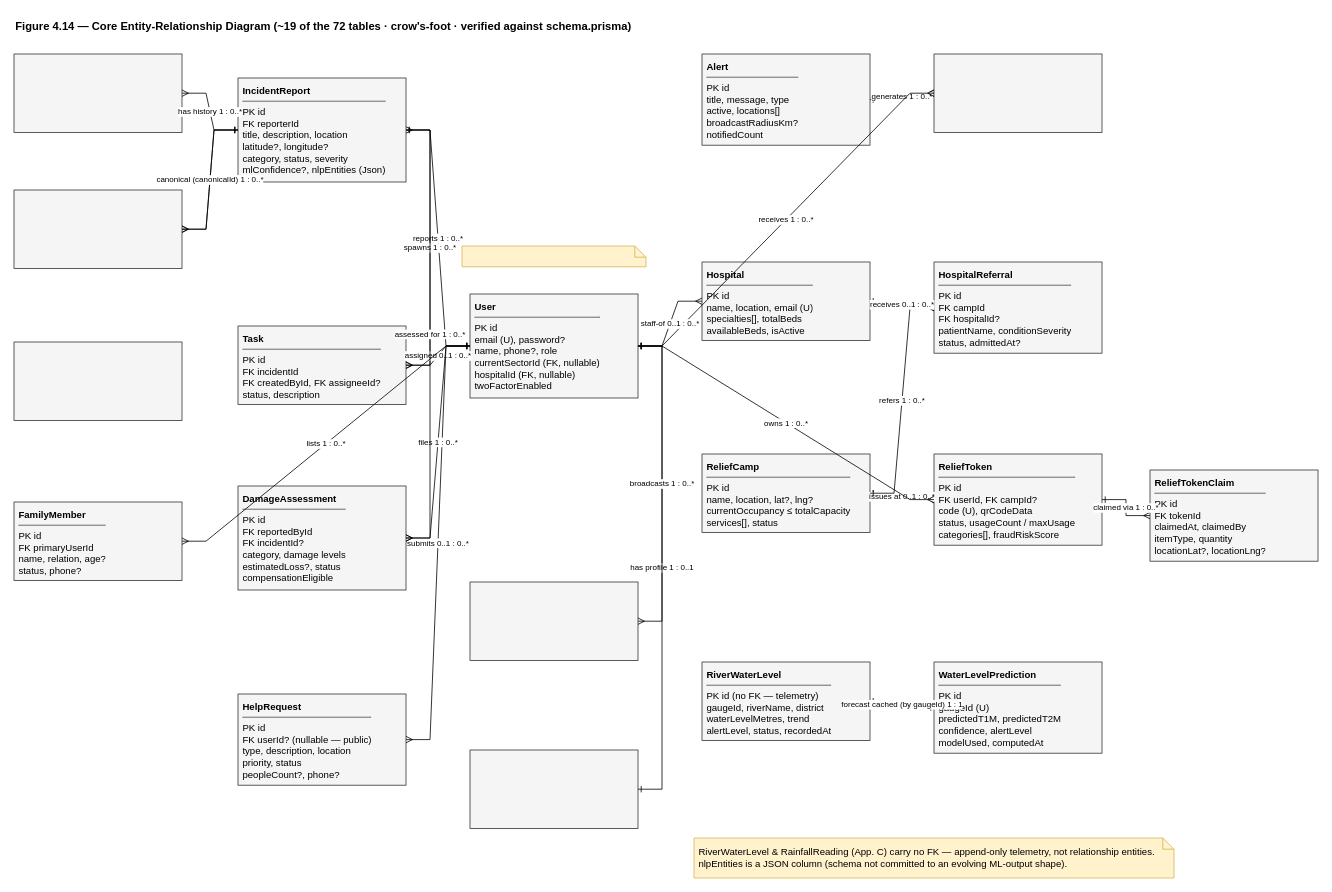
Image size: 1332x892. Some labels were removed from this diagram. Each missing label, with the centre of its shape:
IncidentDuplicateLink PK id FK reportId FK canonicalId score, distanceM, status: the point at 97,228
IncidentHistory PK id FK incidentId fromStatus, toStatus changedById, note: the point at 97,92
MissingPerson PK id name, age?, description lastSeenLocation, photo status: the point at 97,380
Notification PK id FK userId FK alertId? (SetNull) title, body, read: the point at 1017,92
SafetyCheckIn PK id FK userId status, message? latitude?, longitude?: the point at 553,620
User is the hub — nearly every record links back to its creator/owner.: the point at 553,256
VolunteerProfile PK id FK userId (U) incidentsJoined readinessScore, totalHours: the point at 553,788
